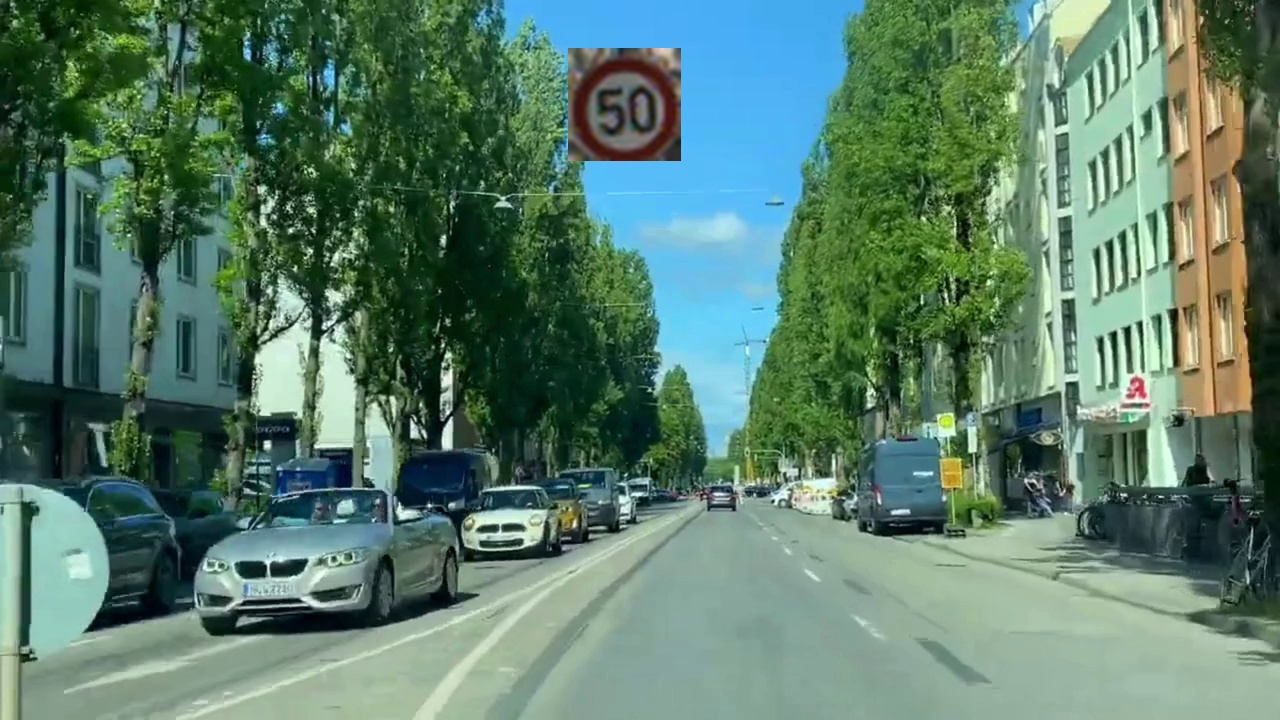Speed 50: (568, 48, 681, 161)
